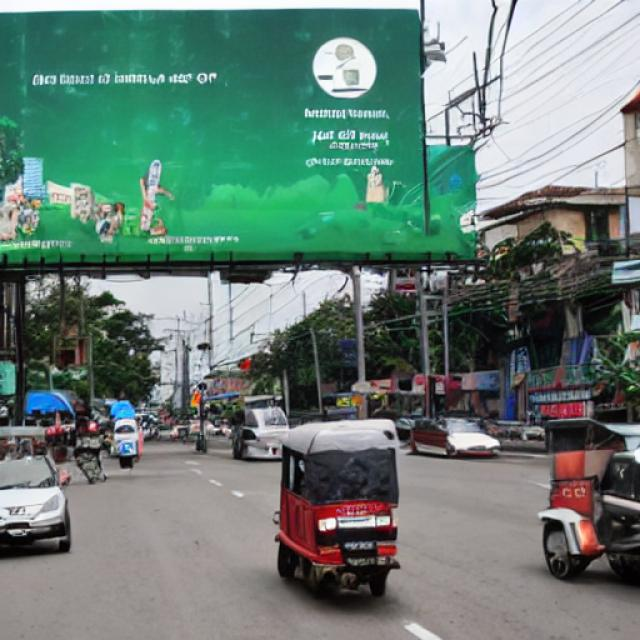Billboard: (0, 7, 431, 270)
